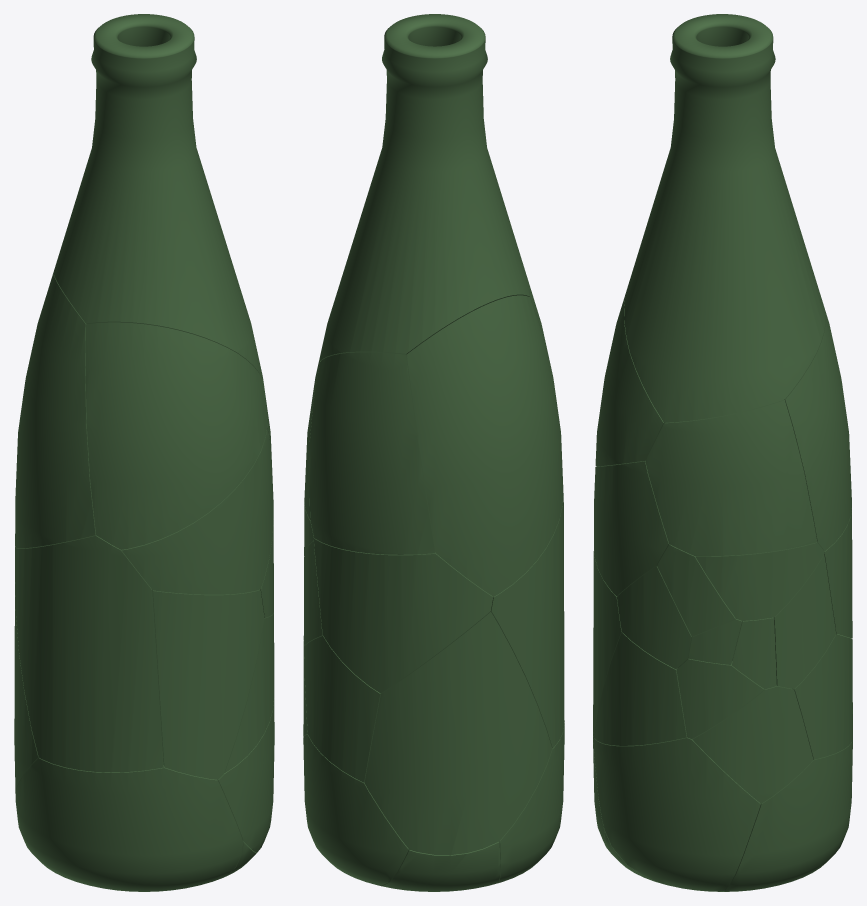
The model's file is bottle_champagne_shards.glb.
3 renders of one model, left to right at view 1: azimuth 30°, elevation 25°; view 2: azimuth 150°, elevation 25°; view 3: azimuth 270°, elevation 25°, orthographic.
Parts seen in each view (by area): view 1: Shard_00, Shard_08, Shard_06, Shard_01, Shard_12, Shard_05, Shard_13, Shard_04, Shard_15, Shard_07, Shard_19; view 2: Shard_00, Shard_05, Shard_07, Shard_09, Shard_10, Shard_06, Shard_02, Shard_14, Shard_01, Shard_03, Shard_17, Shard_11; view 3: Shard_00, Shard_11, Shard_04, Shard_02, Shard_09, Shard_16, Shard_13, Shard_15, Shard_18, Shard_08, Shard_14, Shard_17 (+7 smaller).
Part boxes in pixels (x1,y1,x2,y2): Shard_00: [53, 14, 262, 378]; Shard_08: [85, 322, 267, 549]; Shard_06: [15, 535, 163, 772]; Shard_01: [15, 758, 243, 891]; Shard_12: [152, 589, 264, 779]; Shard_05: [15, 272, 95, 548]; Shard_13: [121, 429, 273, 594]; Shard_04: [218, 698, 274, 852]; Shard_15: [224, 613, 274, 773]; Shard_07: [14, 582, 38, 793]; Shard_19: [260, 520, 273, 617]; Shard_00: [320, 14, 529, 361]; Shard_05: [406, 295, 563, 596]; Shard_07: [364, 612, 552, 855]; Shard_09: [309, 352, 435, 554]; Shard_10: [314, 538, 493, 693]; Shard_06: [490, 493, 564, 748]; Shard_02: [303, 734, 408, 885]; Shard_14: [304, 636, 381, 782]; Shard_01: [498, 723, 564, 882]; Shard_03: [381, 841, 500, 891]; Shard_17: [303, 541, 322, 646]; Shard_11: [304, 356, 320, 520]; Shard_00: [624, 14, 825, 422]; Shard_11: [645, 400, 817, 556]; Shard_04: [593, 737, 760, 891]; Shard_02: [724, 740, 852, 891]; Shard_09: [784, 309, 851, 550]; Shard_16: [692, 686, 813, 803]; Shard_13: [594, 461, 669, 596]; Shard_15: [594, 632, 686, 745]; Shard_18: [695, 542, 824, 620]; Shard_08: [595, 290, 664, 466]; Shard_14: [793, 634, 852, 759]; Shard_17: [774, 555, 835, 688].
Bounding box in the file's own units: 0.0873 × 0.3 × 0.087.
